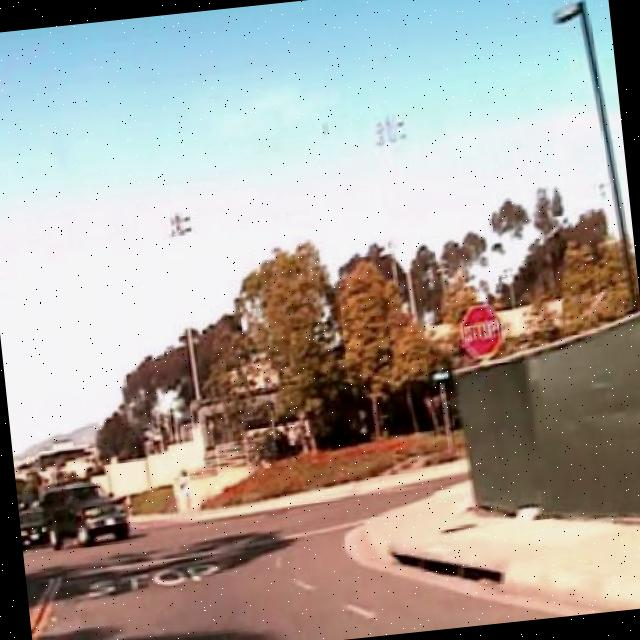Stop: (458, 302, 504, 366)
